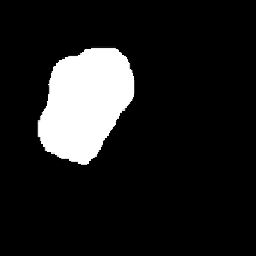mass: (46, 47, 131, 165)
